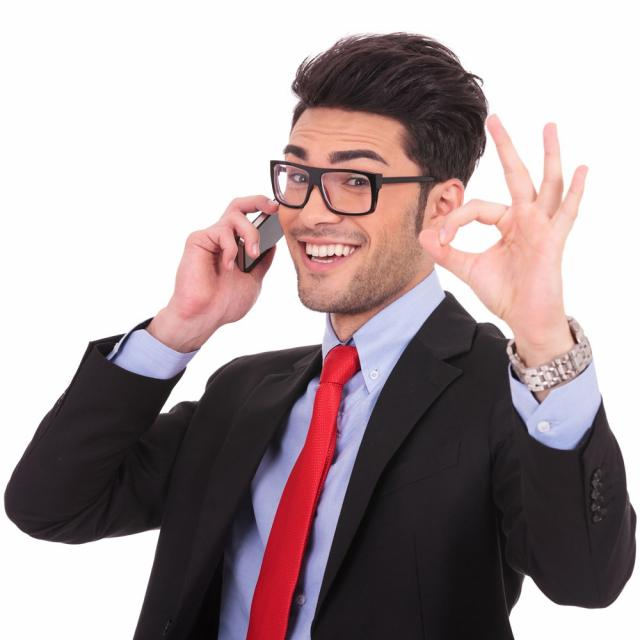phone: (194, 141, 330, 329)
